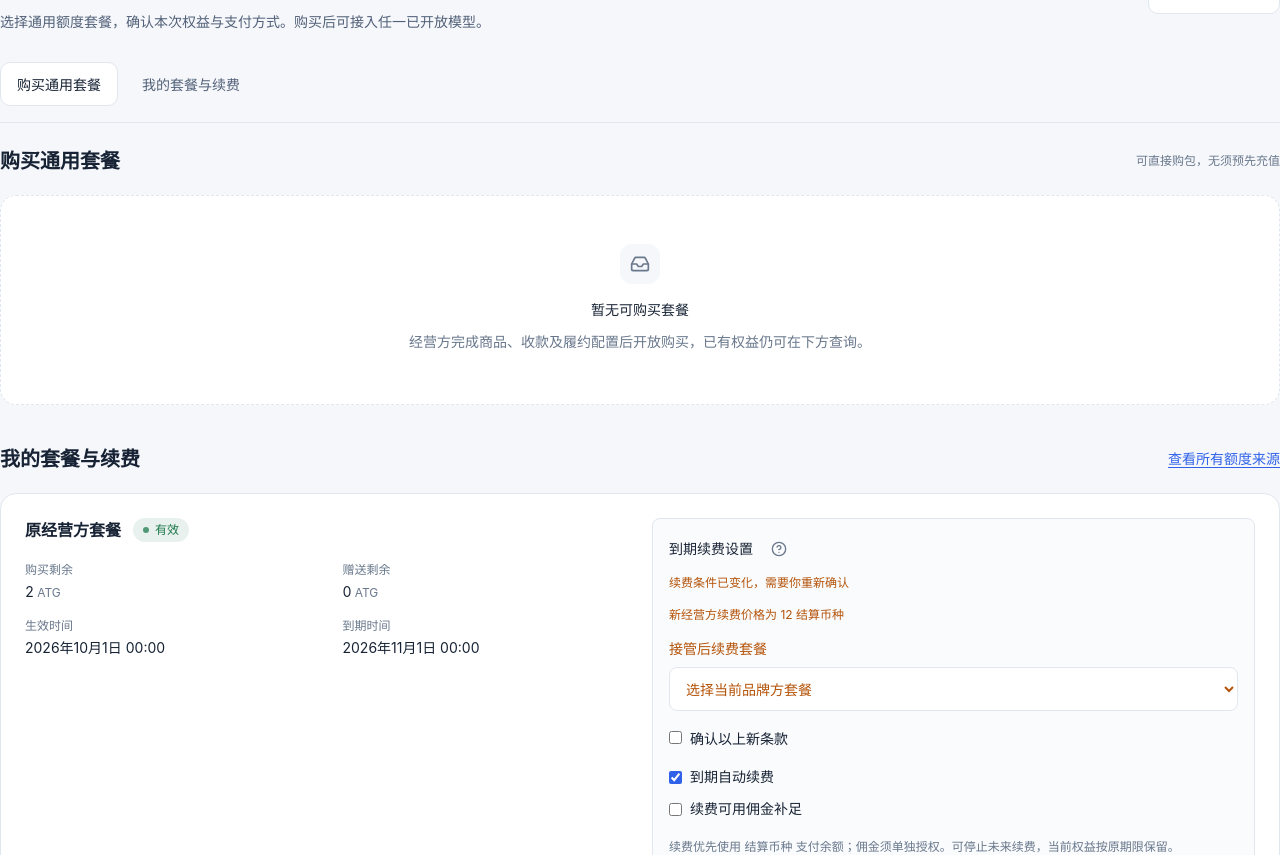
Scenario: requires the current renewal plan and explicit acceptance when takeover terms changed
Select "新经营方套餐 · 12 USD · 20+2 ATG · 一个日历月" in the dropdown labelled "接管后续费套餐" at [954, 689], box [669,667,1238,711]
(page scrolled)
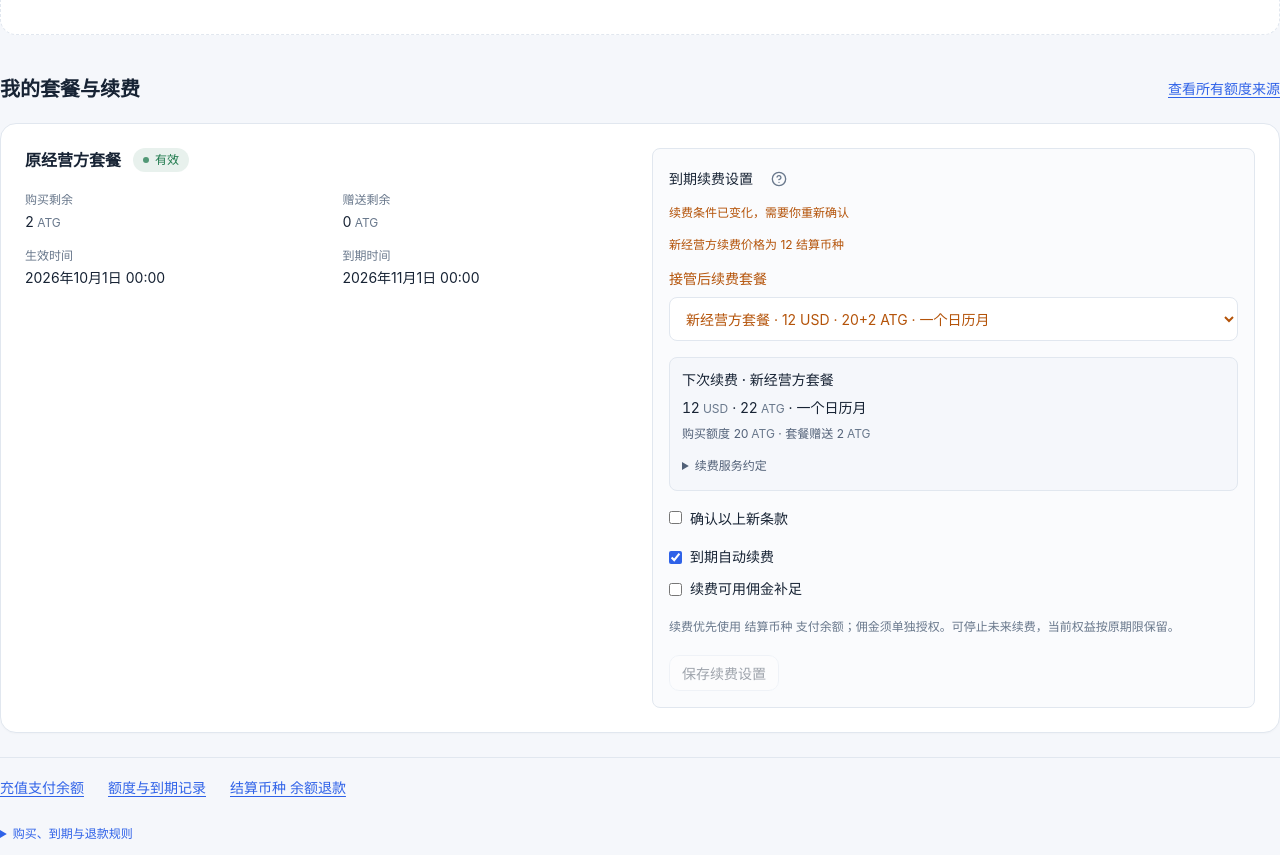
Expected: the button "保存续费设置" is disabled, [669,655,779,691]
Click the checkbox labelled "确认以上新条款" at [676, 518], box [669,511,682,524]
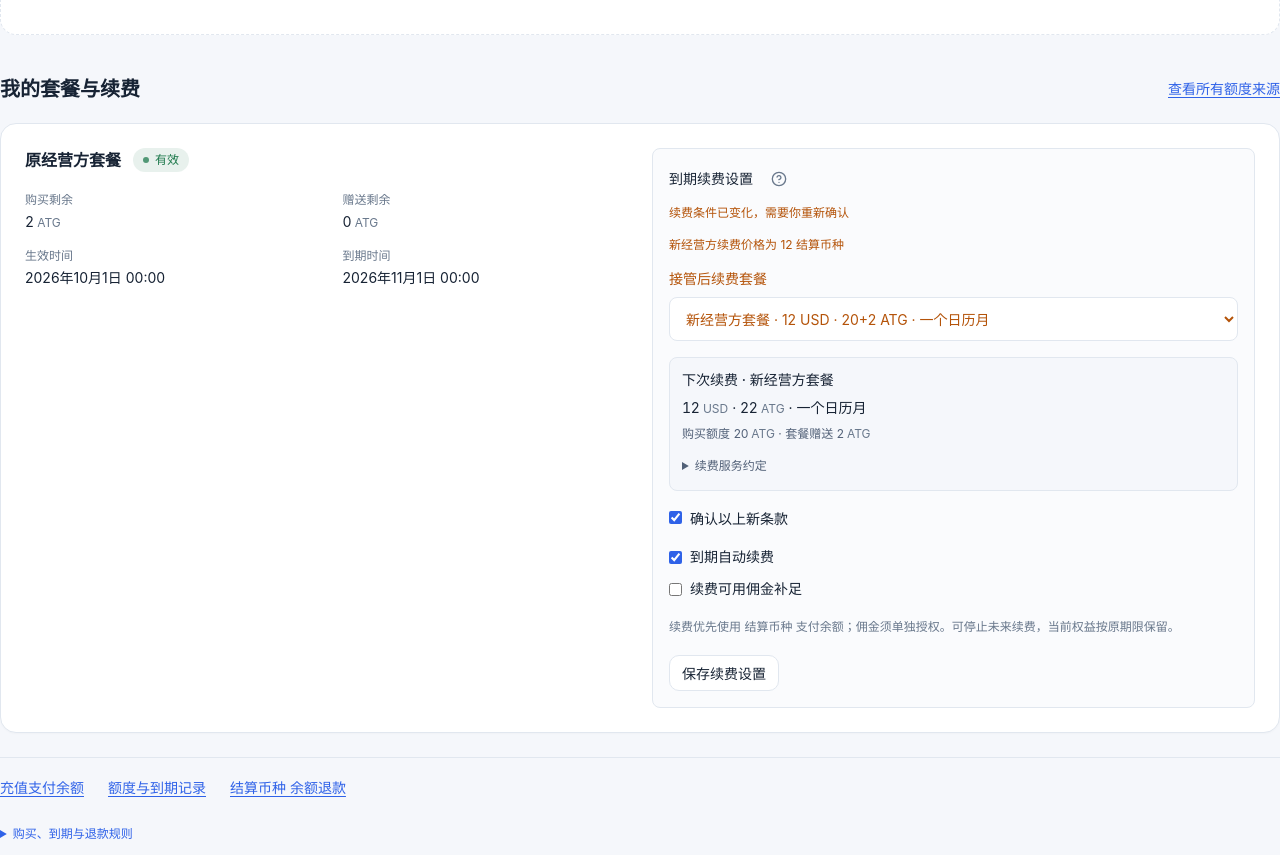
Click the checkbox labelled "续费可用佣金补足" at [676, 589], box [669,583,682,596]
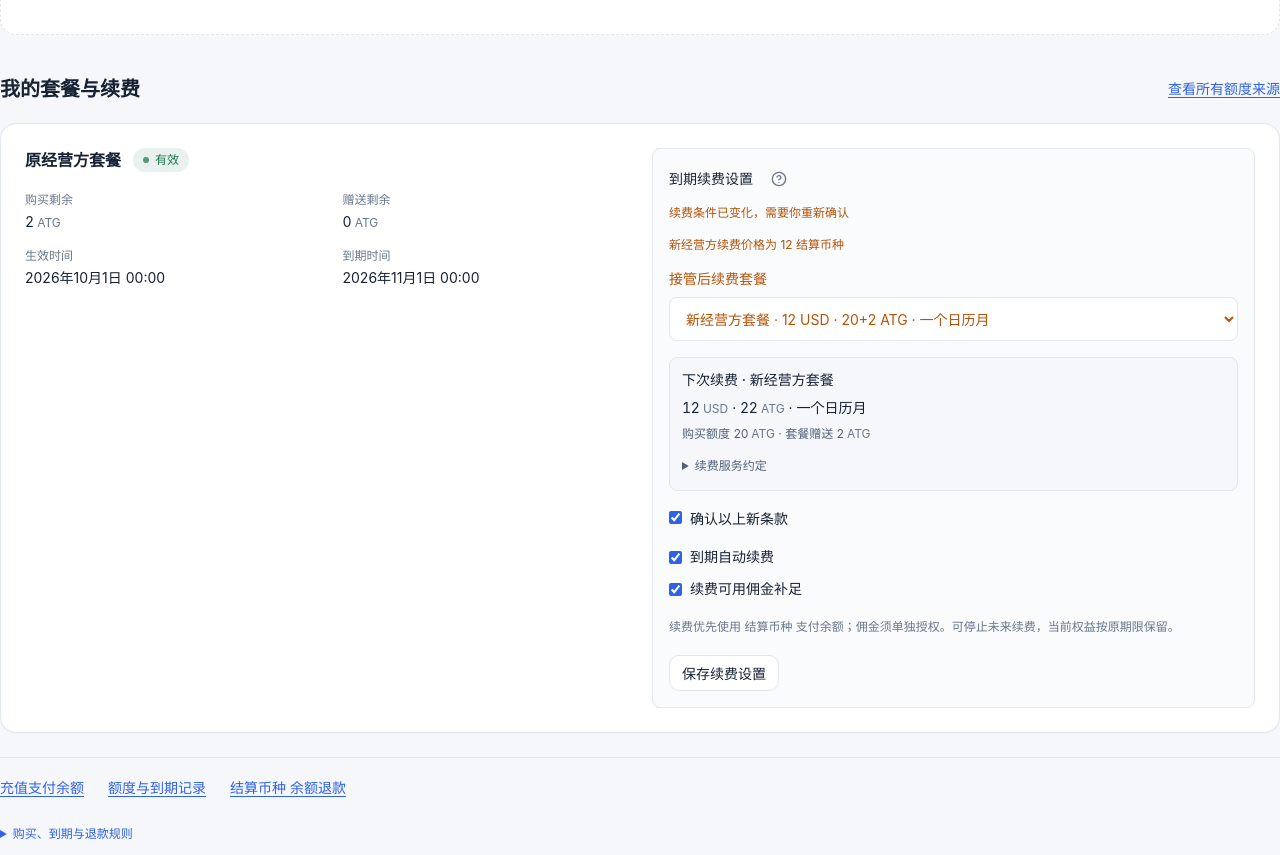
Click the button "保存续费设置" at [724, 673], box [669,655,779,691]
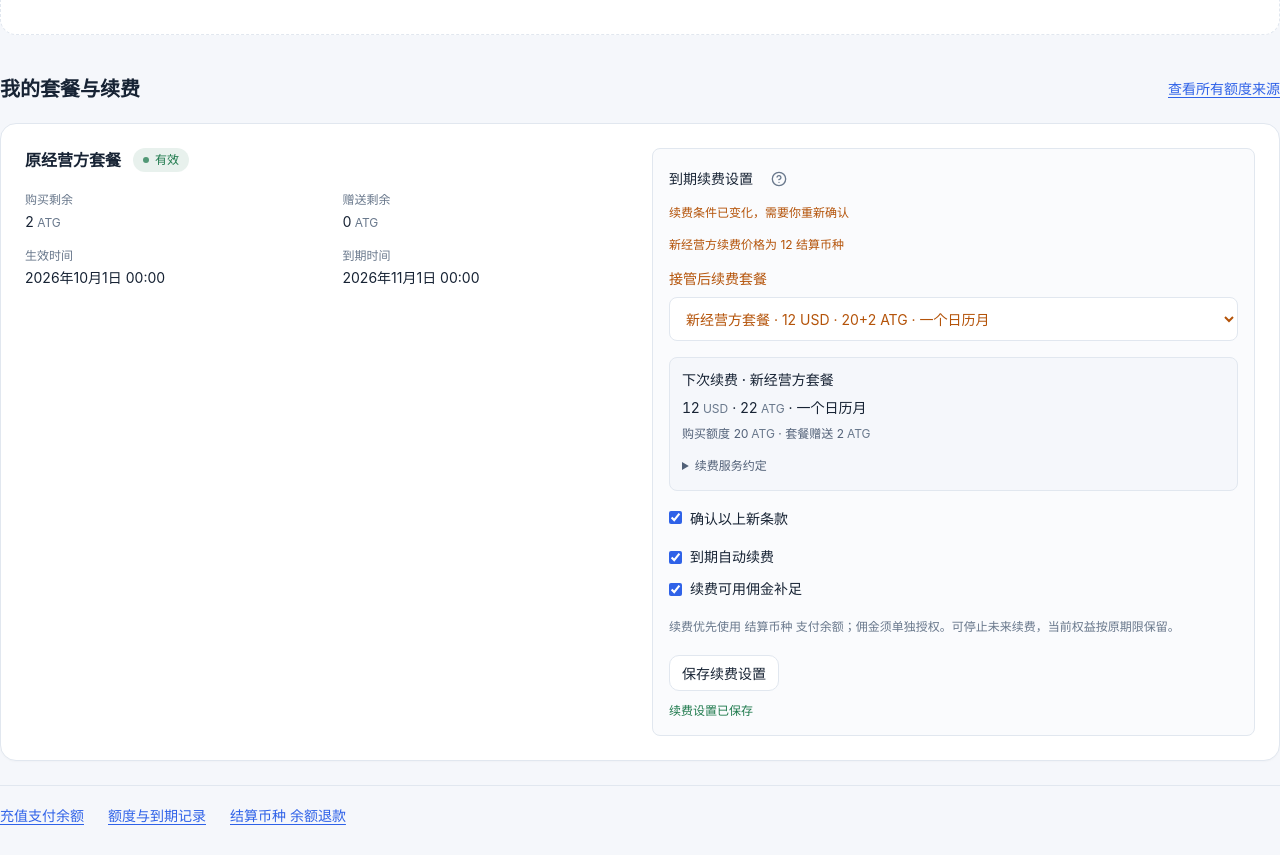
Expected: the text "续费设置已保存" is shown, [669,703,753,718]
